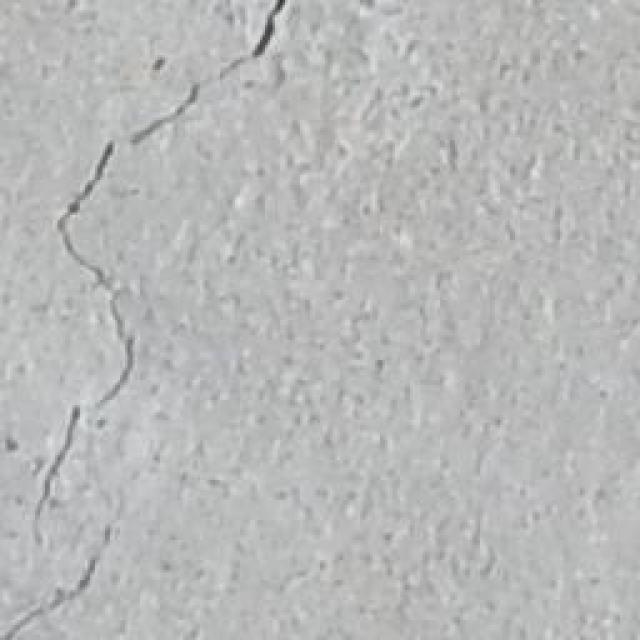concrete-crack: (32, 0, 293, 533), (0, 519, 115, 640)
